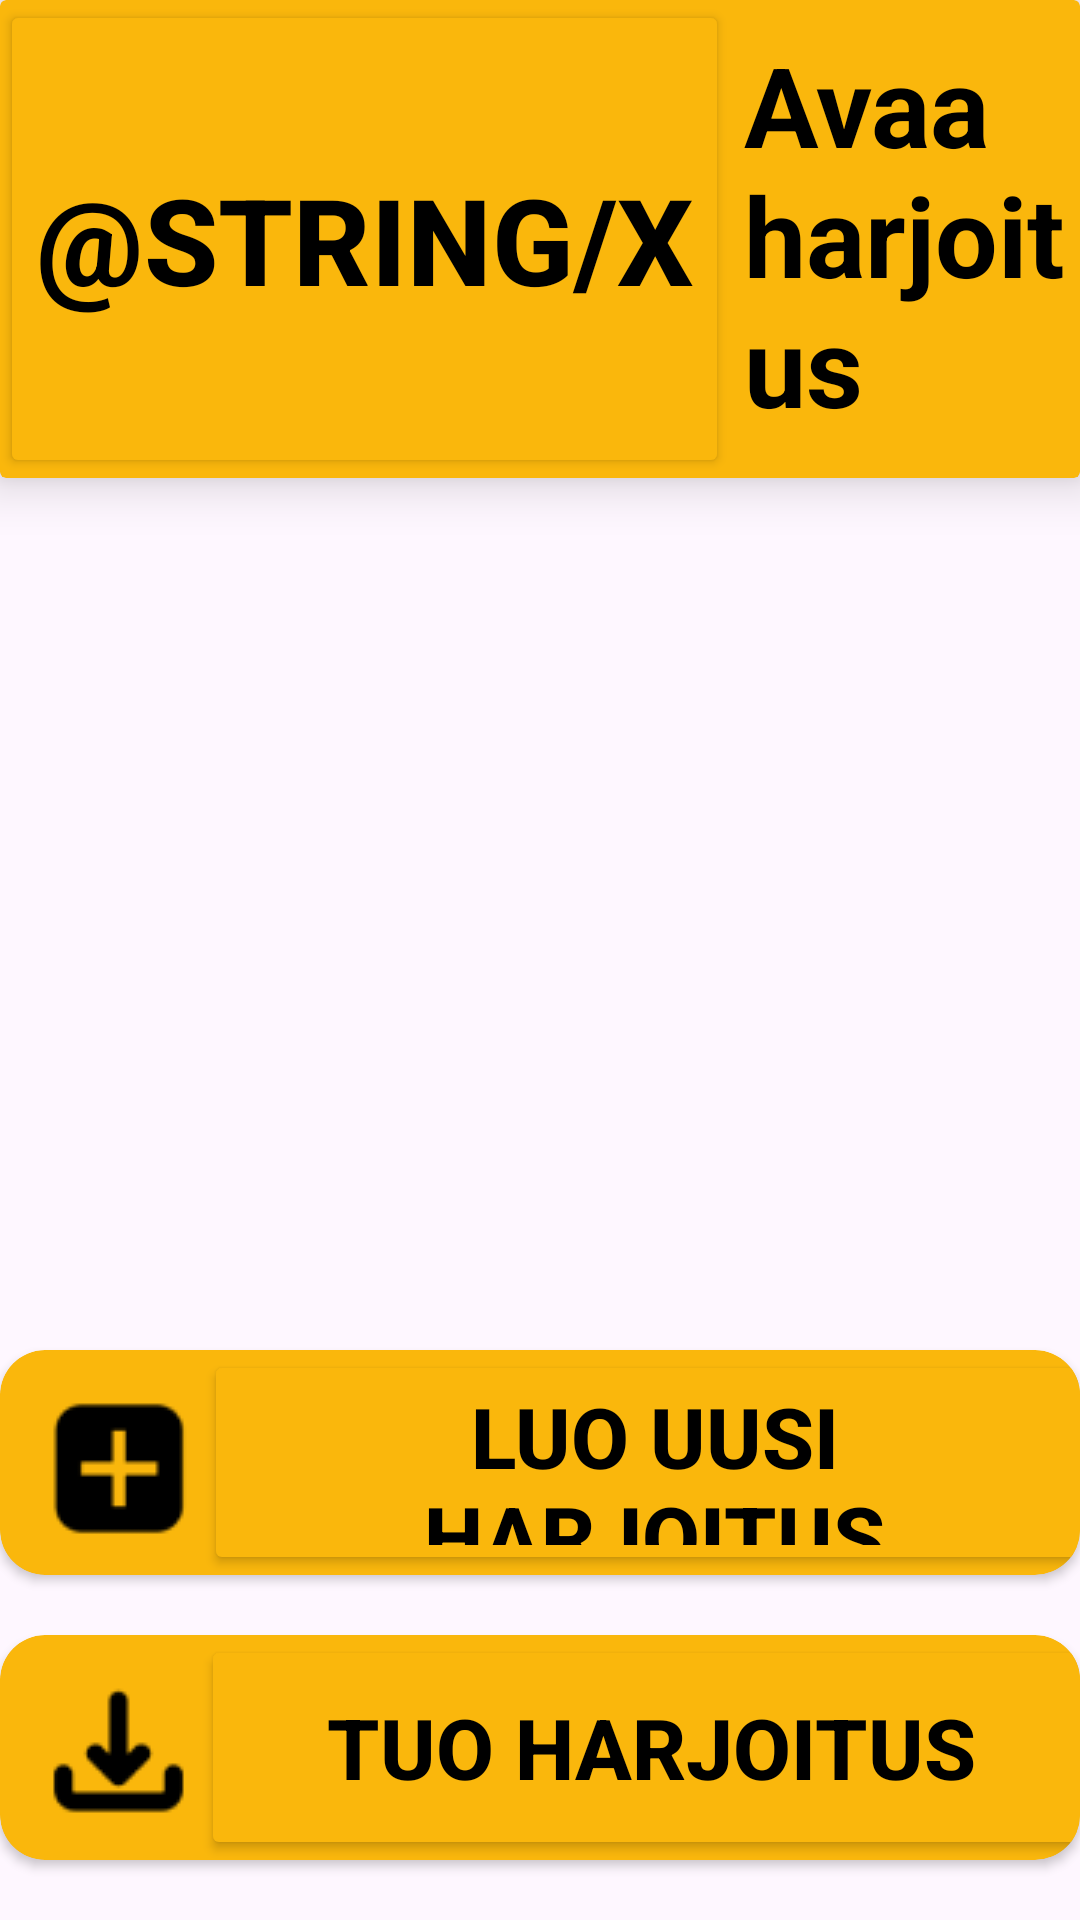

Where icons sit on this 1080px x 1920px app screen, as {"left": x1, "top": y1, "right": x2, "bottom": y2}:
download: {"left": 53, "top": 1689, "right": 184, "bottom": 1813}
plus box: {"left": 53, "top": 1403, "right": 184, "bottom": 1534}
